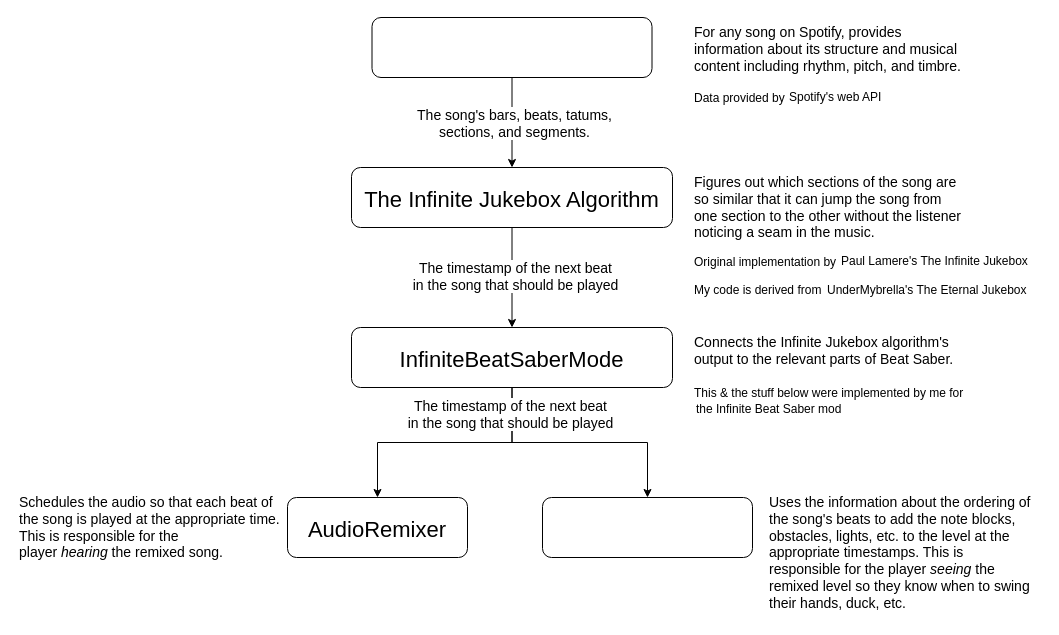
This 1059x635 diagram has some shape labels left out. Each missing label, with the centre of its shape:
BeatmapRemixer: the point at 647,527
Spotify audio analysis file: the point at 511,47
